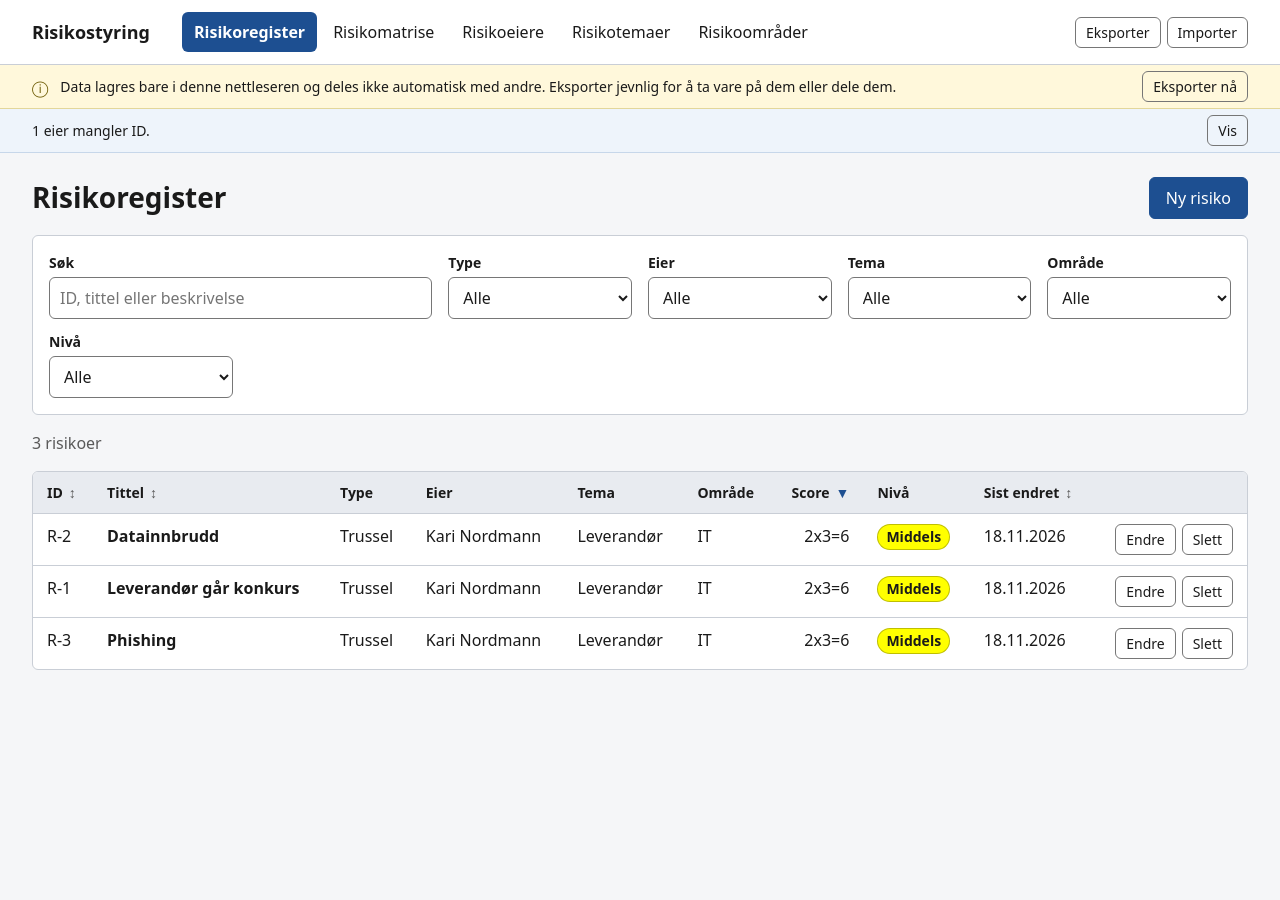
Test case: varsel om elementer uten ID (spec 004, K54) › forsvinner når siste element har fått ID
The image size is (1280, 900).
Expected: the heading "Risikoregister" is shown, [32,181,226,215]
Step 1. Click the button "Vis" → (1228, 130), box [1207,115,1248,146]
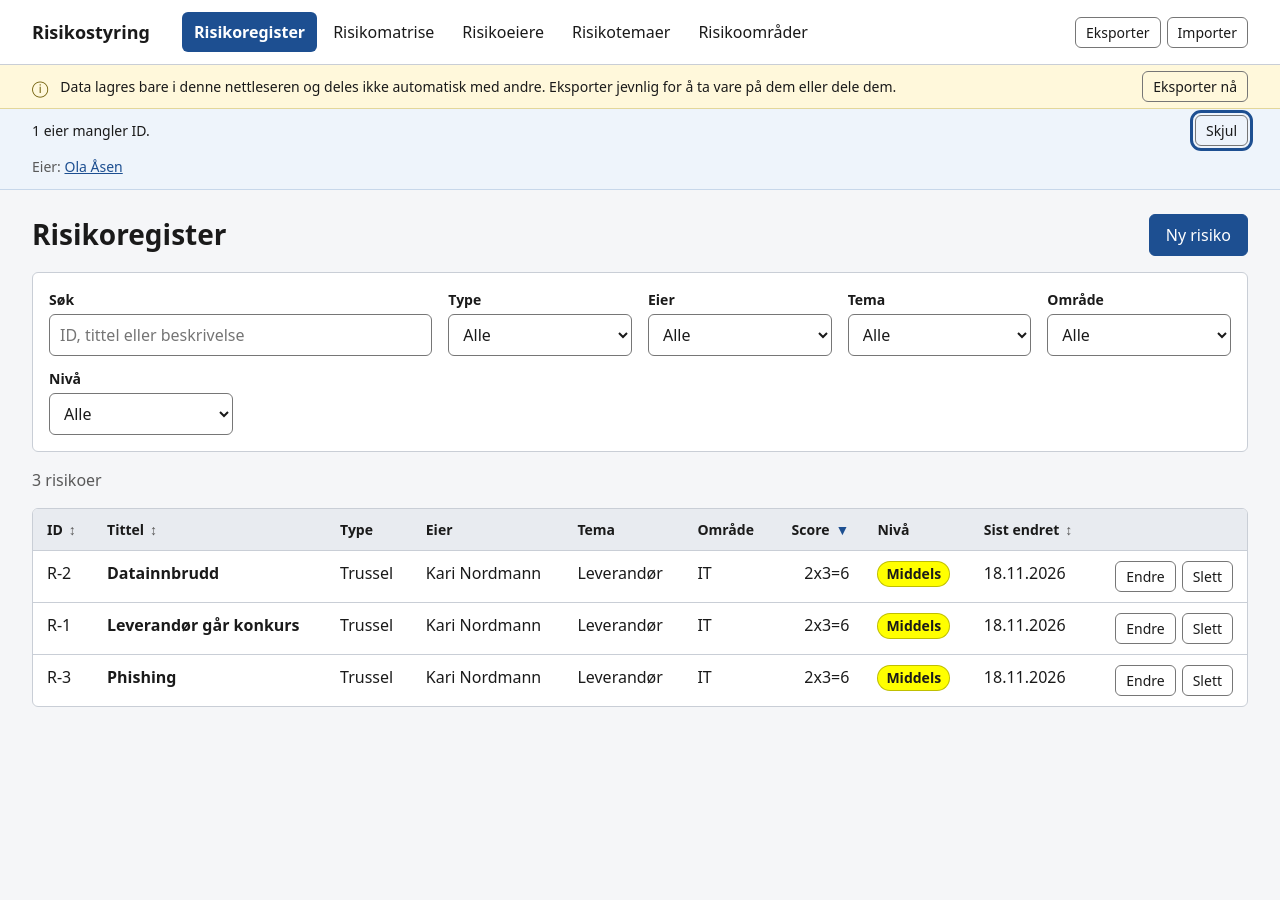
Step 2. Click the link "Ola Åsen" → (94, 166), box [64,157,123,176]
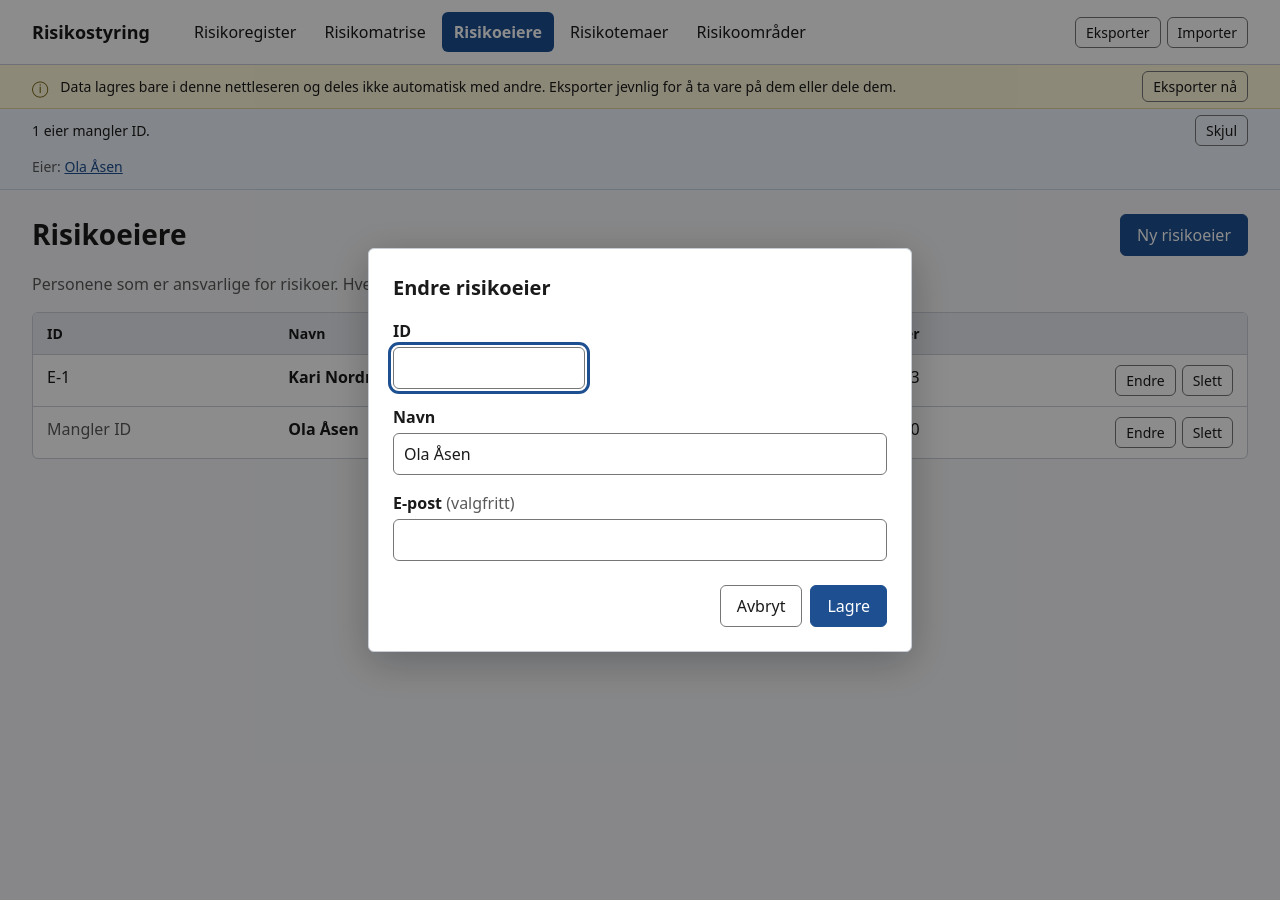
Step 3. Type "E-3" into the field labelled "ID" → (489, 368), box [393,347,585,389]
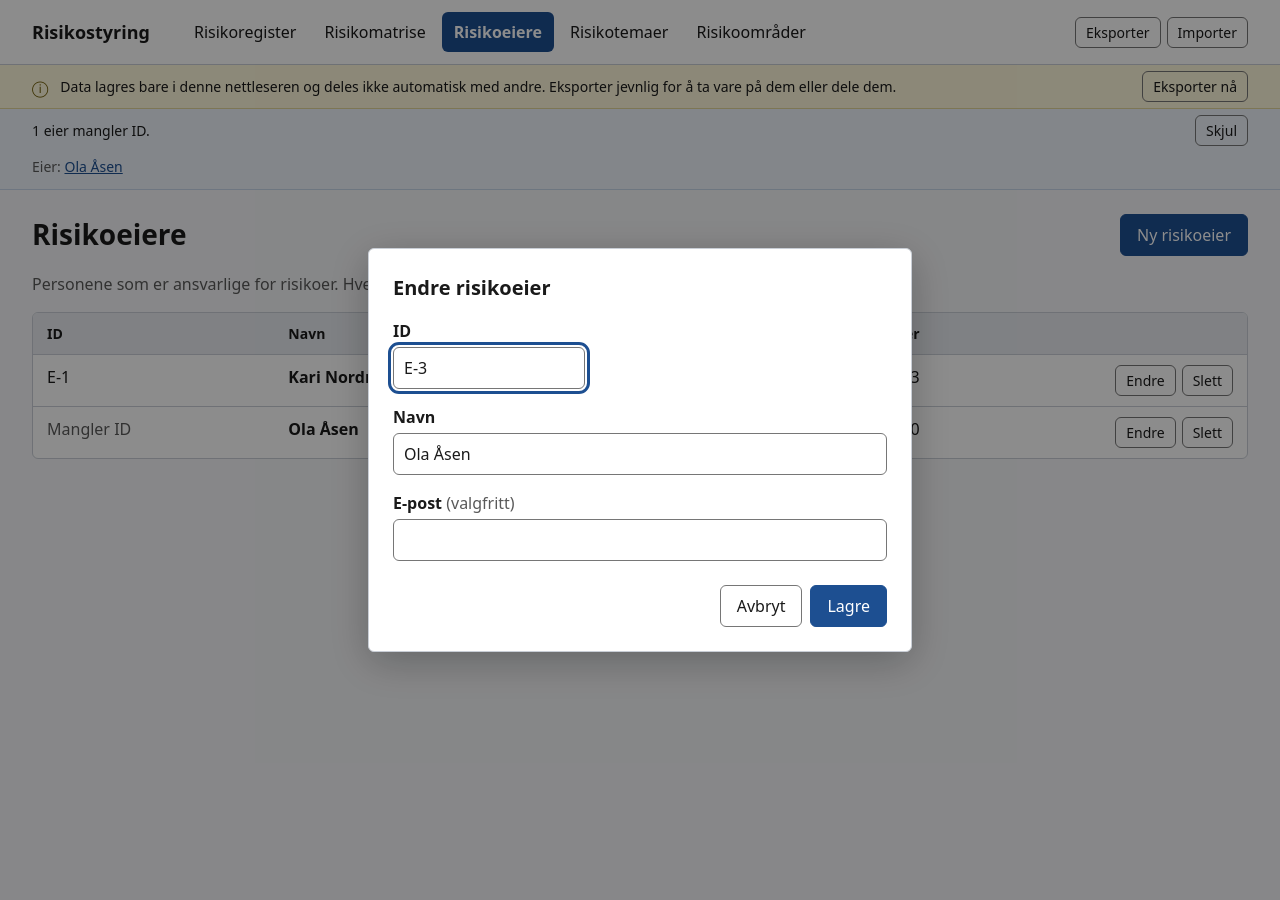
Step 4. Click the button "Lagre" → (849, 606), box [810,585,887,627]
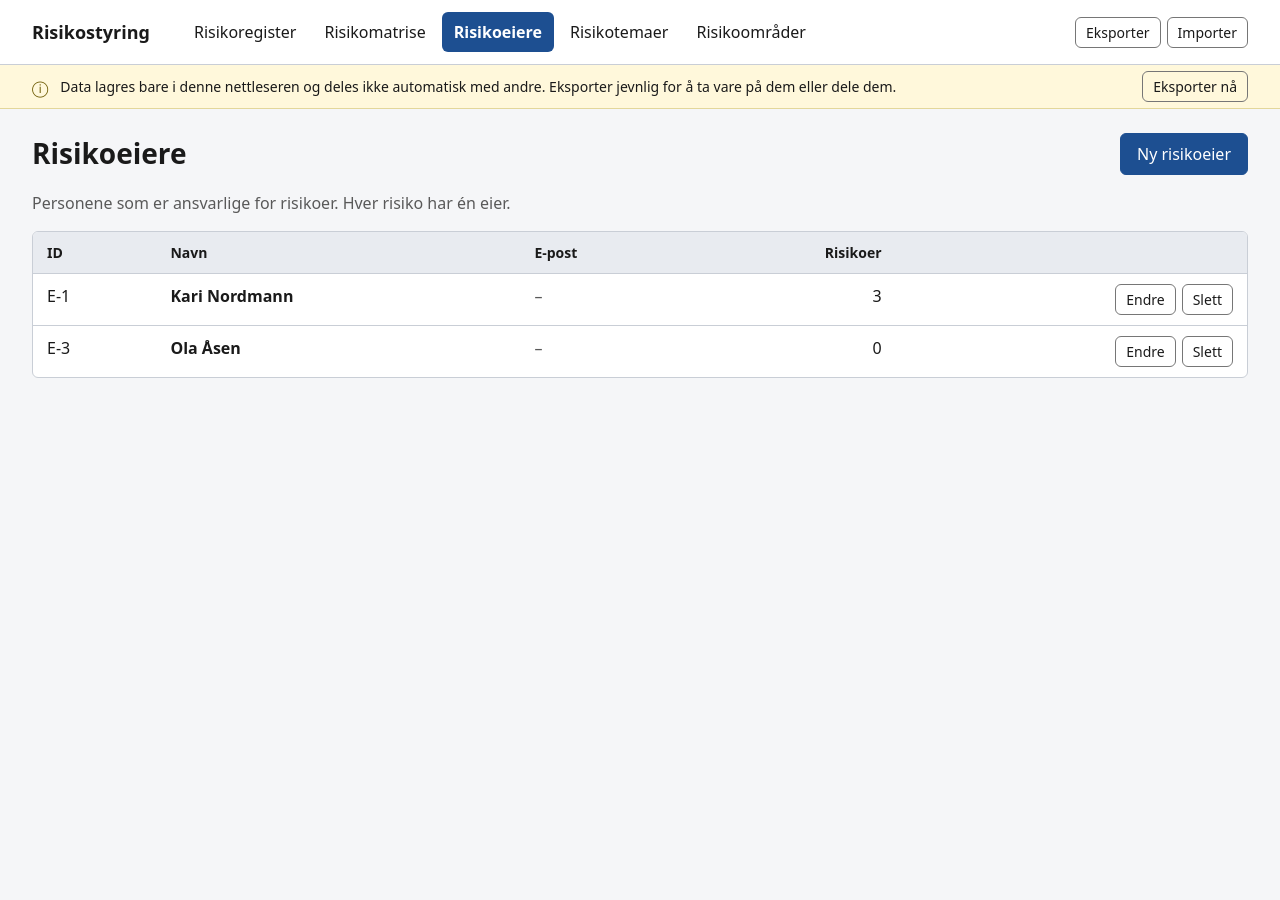
Now the dialog is gone
Now the list "Elementer uten ID" is gone
